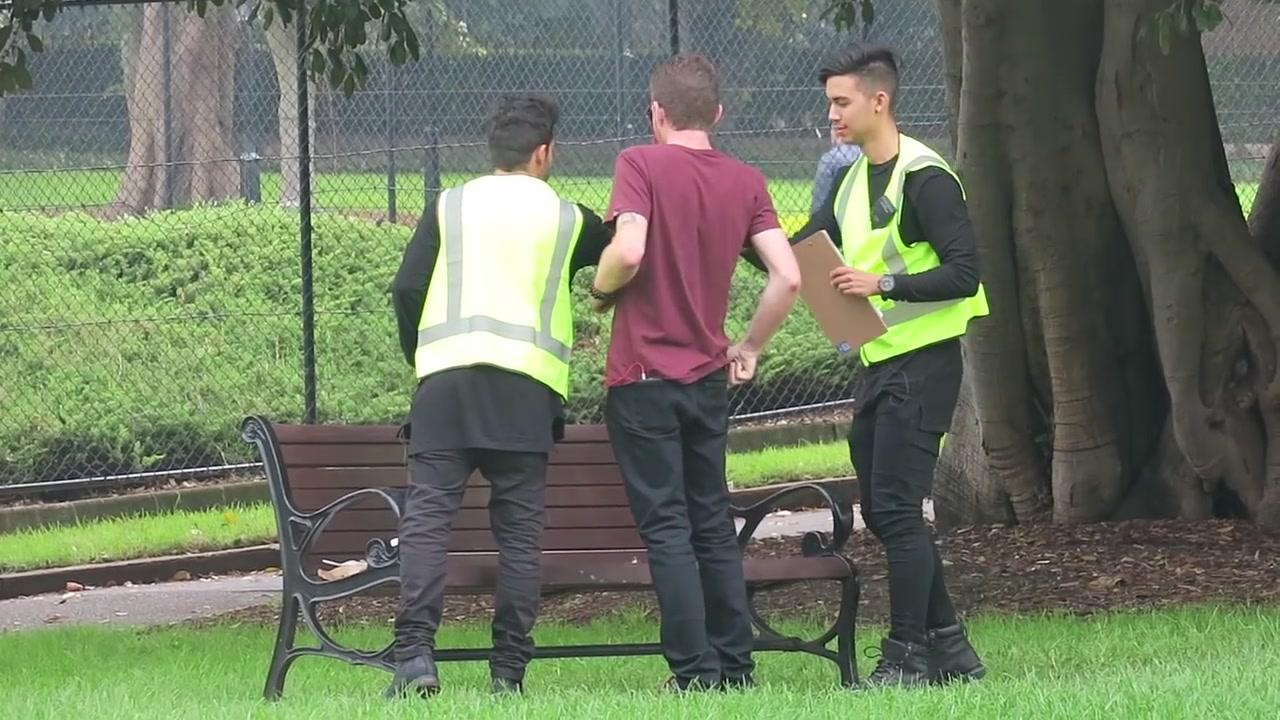vest: (417, 172, 585, 405), (834, 127, 992, 368)
